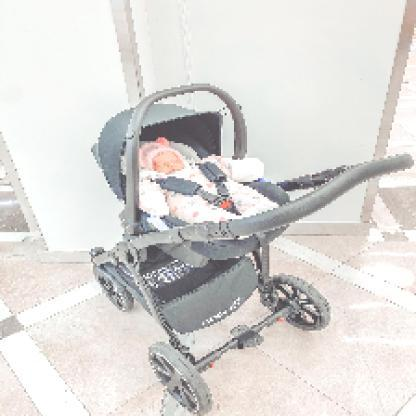child: (141, 139, 282, 234)
